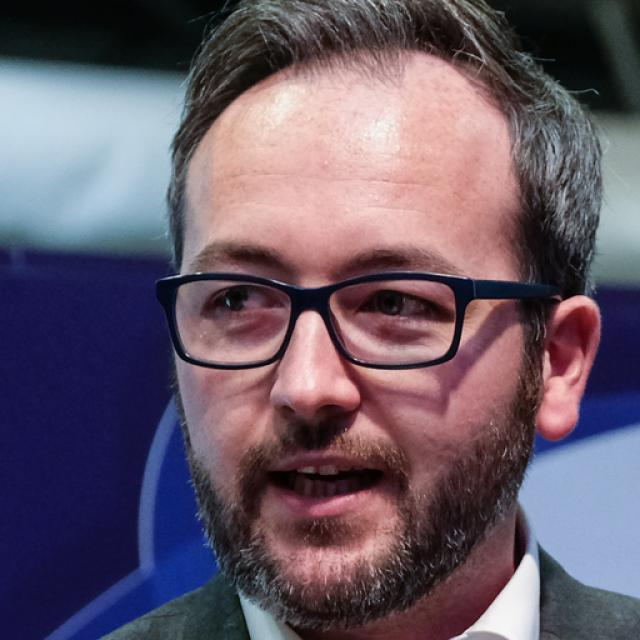Acne: (305, 156, 335, 173)
Wrinkle: (218, 163, 448, 189)
